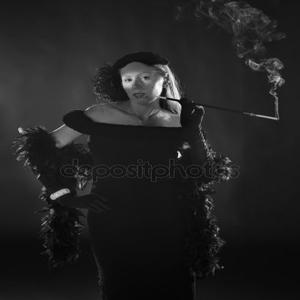cigarette: (245, 104, 281, 126)
